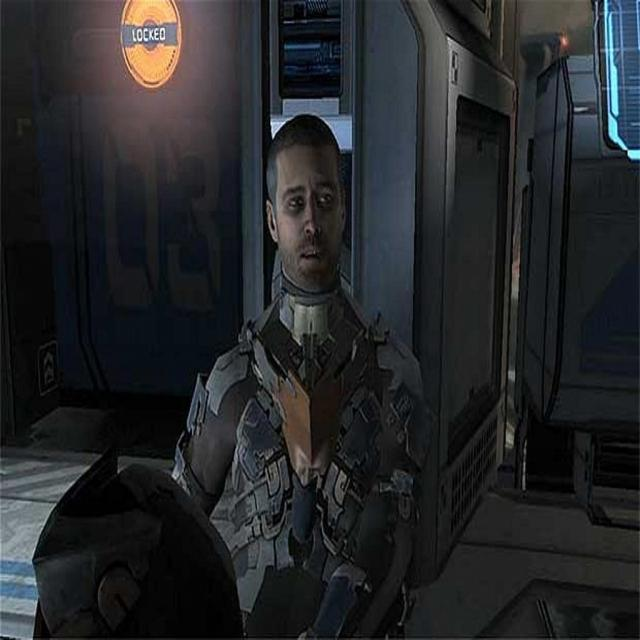nomask: (276, 150, 339, 294)
